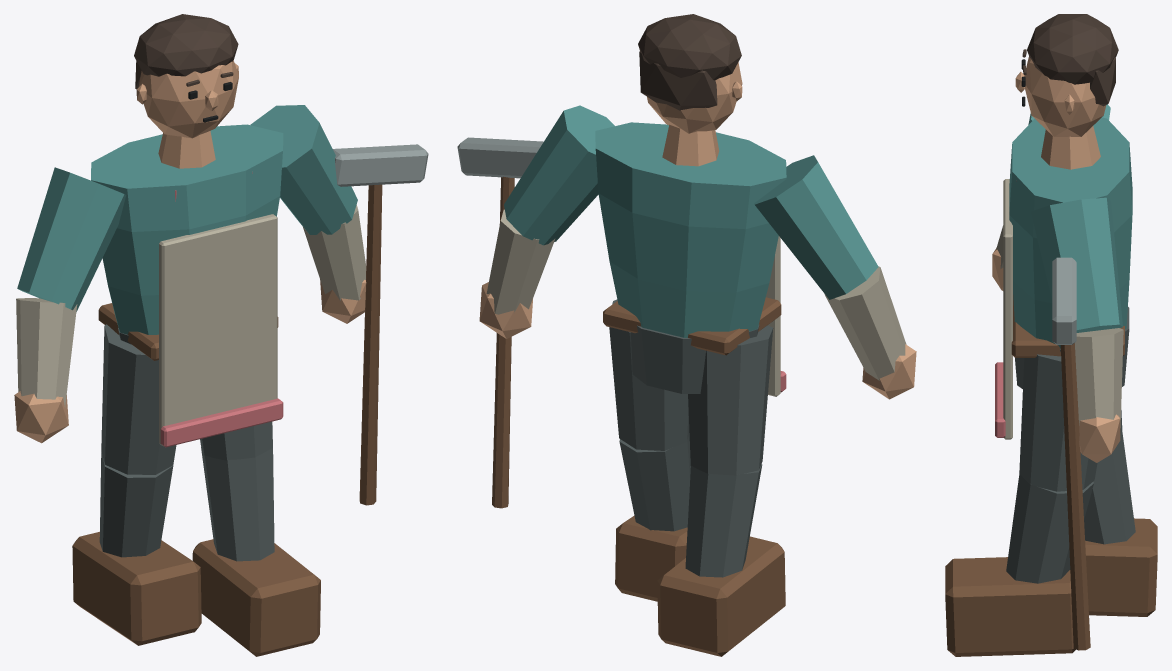
File: npc_laborer_step_r_v01.glb
3 views of the same model, side by side, from view 1: azimuth 30°, elevation 25°; view 2: azimuth 150°, elevation 25°; view 3: azimuth 270°, elevation 25° (orthographic).
Visible parts, largest first — view 1: GEO_npc_laborer_step_r_v01; view 2: GEO_npc_laborer_step_r_v01; view 3: GEO_npc_laborer_step_r_v01.
Part boxes in pixels (x1,y1,x2,y2): GEO_npc_laborer_step_r_v01: (14, 14, 428, 656); GEO_npc_laborer_step_r_v01: (457, 14, 916, 656); GEO_npc_laborer_step_r_v01: (945, 14, 1157, 656).
Bounding box in the file's own units: 1.56 × 2.06 × 0.6578.
